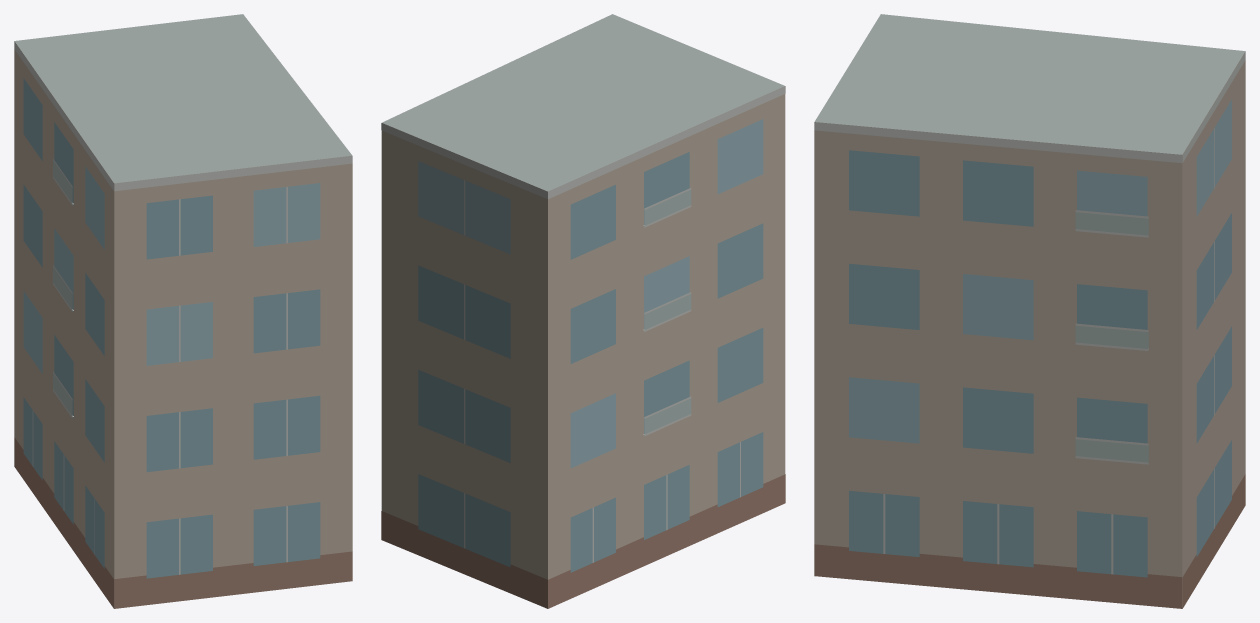
Rendered from survey-upis-32940078.glb.
The picture shows the model from 3 angles, left to right: view 1: azimuth 30°, elevation 25°; view 2: azimuth 150°, elevation 25°; view 3: azimuth 270°, elevation 25°; orthographic projection. The views are drawn at different scales.
Parts seen in each view (by area): view 1: survey-upis-32940078.tmp; view 2: survey-upis-32940078.tmp; view 3: survey-upis-32940078.tmp.
Boxes of the visible parts, <box> form: survey-upis-32940078.tmp: <box>14,14,352,608</box>; survey-upis-32940078.tmp: <box>381,14,785,608</box>; survey-upis-32940078.tmp: <box>814,14,1245,608</box>.
Bounding box in the file's own units: 8.79 × 13.2 × 11.37.
